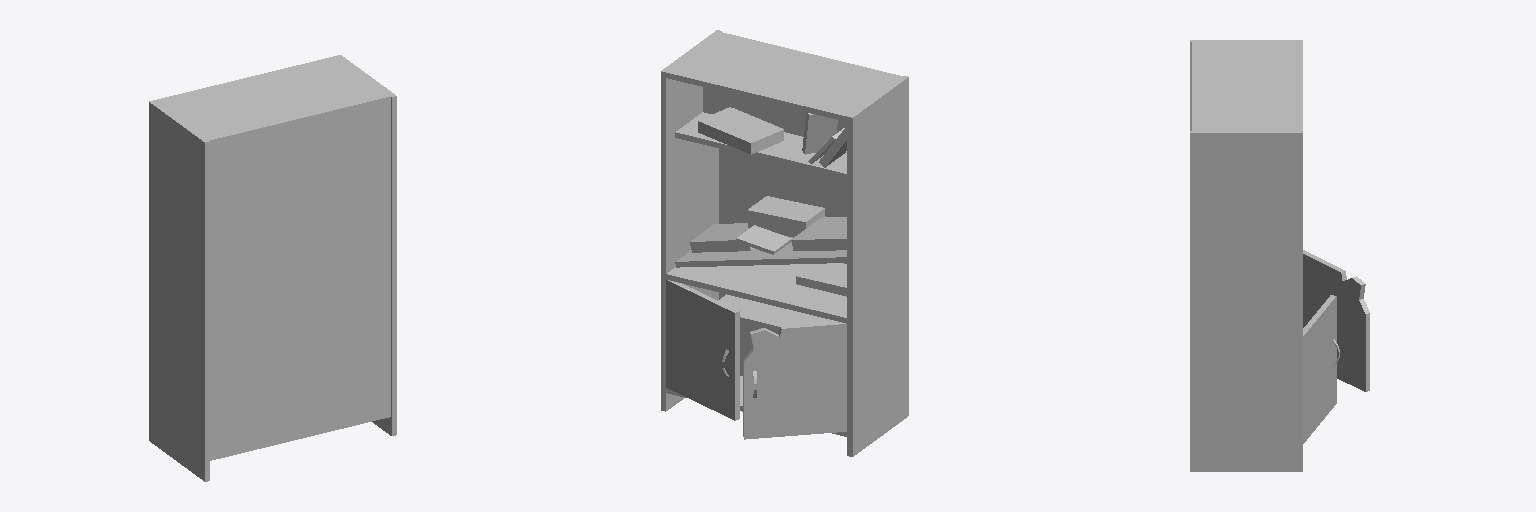
The model's file is Bookshelf01.obj.
The picture shows the model from 3 angles: view 1: azimuth 30°, elevation 25°; view 2: azimuth 150°, elevation 25°; view 3: azimuth 270°, elevation 25°; orthographic projection.
Parts seen in each view (by area): view 1: Bookshelf01_LOD0_Bookshelf01_LOD0.003; view 2: Bookshelf01_LOD0_Bookshelf01_LOD0.003; view 3: Bookshelf01_LOD0_Bookshelf01_LOD0.003.
Boxes of the visible parts, x1,y1,x2,y2 form: Bookshelf01_LOD0_Bookshelf01_LOD0.003: [149, 55, 396, 481]; Bookshelf01_LOD0_Bookshelf01_LOD0.003: [661, 30, 908, 456]; Bookshelf01_LOD0_Bookshelf01_LOD0.003: [1190, 40, 1369, 471].
Bounding box in the file's own units: 1.21 × 2.04 × 0.9816.